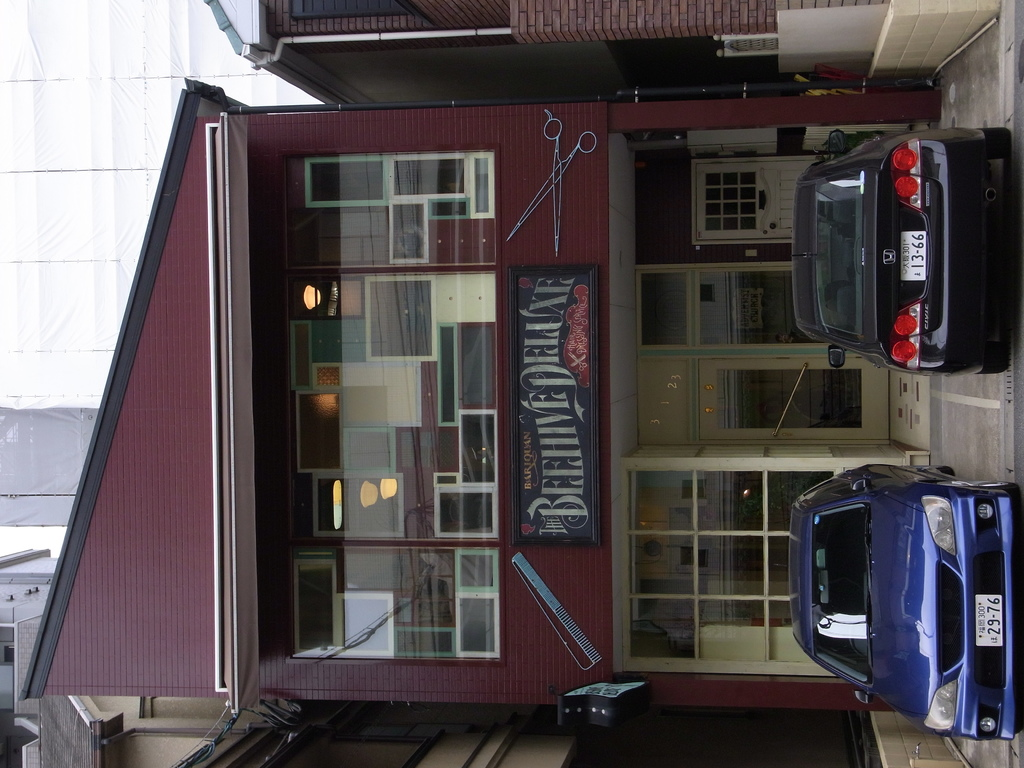Car: (784, 458, 1023, 743), (789, 133, 1004, 376)
